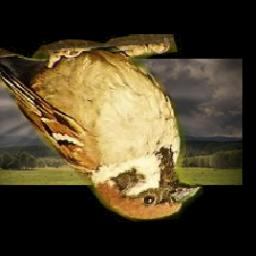Sparrow: (0, 34, 204, 222)
